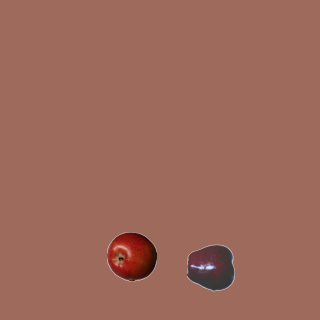Apple Braeburn: (106, 231, 156, 281)
Apple Red Delicious: (186, 242, 236, 292)
